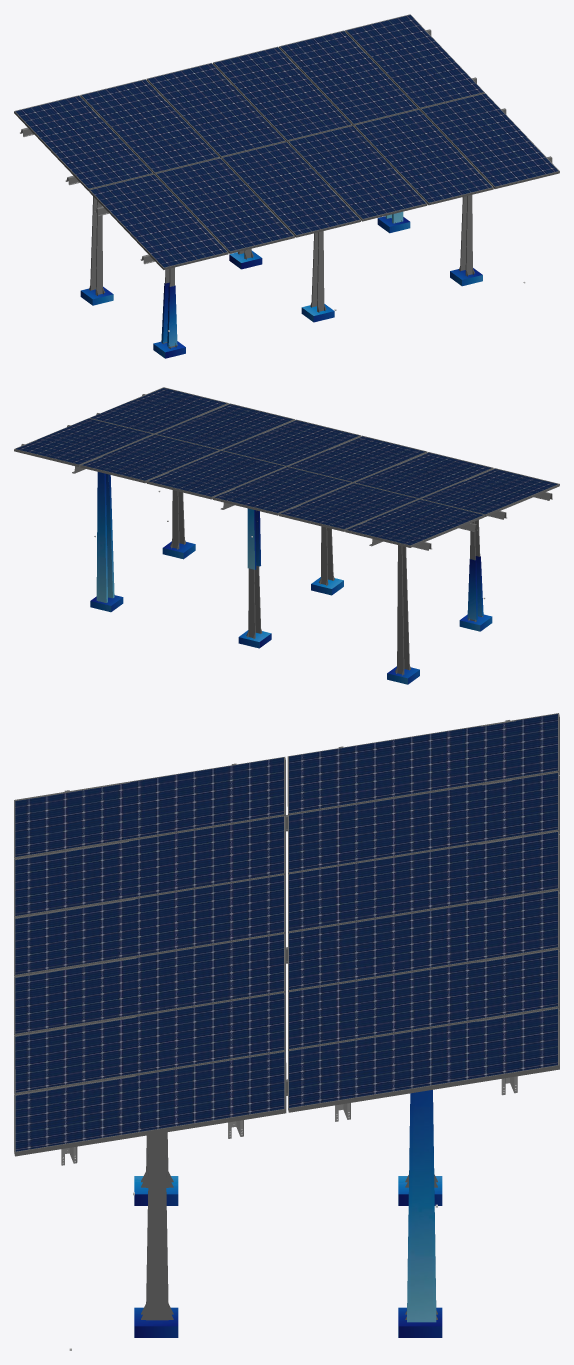
3 renders of one model, top to bottom at view 1: azimuth 30°, elevation 25°; view 2: azimuth 150°, elevation 25°; view 3: azimuth 270°, elevation 25°, orthographic. The views are drawn at different scales.
Visible parts, largest first — view 1: correct.002_Baked, correct_Baked, highlight_1, highlight_2; view 2: correct.002_Baked, correct_Baked, highlight_1, highlight_4, highlight_2, highlight_5; view 3: correct.002_Baked, correct_Baked, highlight_4, highlight_1.
Boxes of the visible parts, <box> form: correct.002_Baked: <box>15,15,558,267</box>; correct_Baked: <box>14,14,559,348</box>; highlight_1: <box>80,216,482,358</box>; highlight_2: <box>161,282,177,346</box>; correct.002_Baked: <box>16,388,557,545</box>; correct_Baked: <box>14,387,559,675</box>; highlight_1: <box>90,541,492,684</box>; highlight_4: <box>96,472,114,602</box>; highlight_2: <box>467,556,483,620</box>; highlight_5: <box>247,508,260,569</box>; correct.002_Baked: <box>15,714,557,1151</box>; correct_Baked: <box>14,713,559,1320</box>; highlight_4: <box>407,1090,436,1322</box>; highlight_1: <box>134,1176,442,1337</box>.
Bounding box in the file's own units: 7.11 × 2.84 × 4.51.
9 materials, 8 textured.
